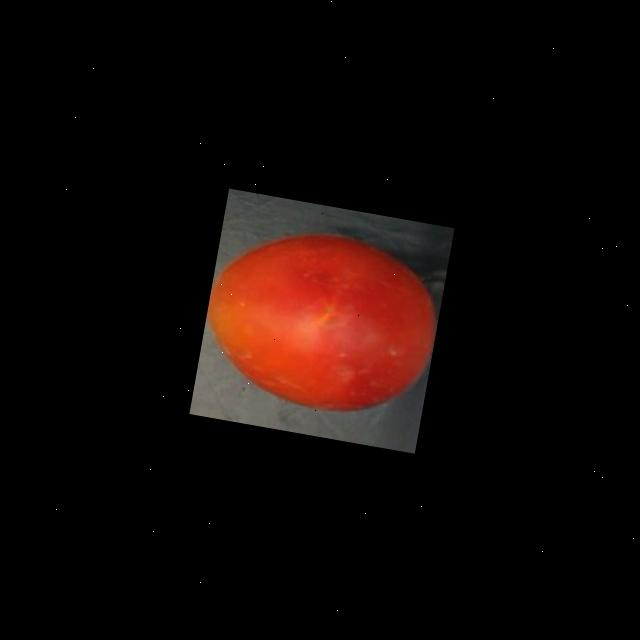tomato: (192, 210, 446, 429)
